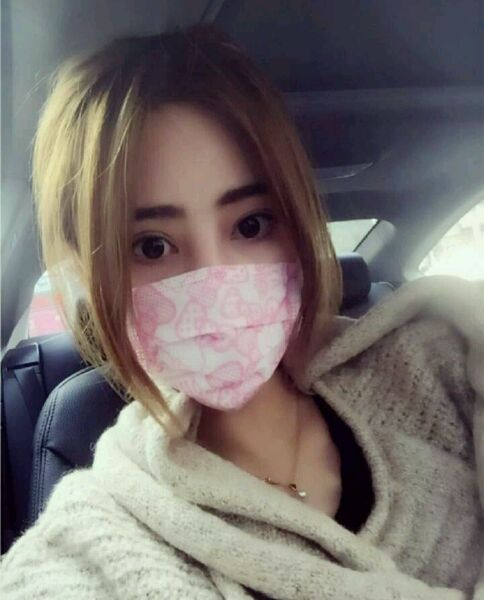face_mask: (100, 101, 297, 406)
